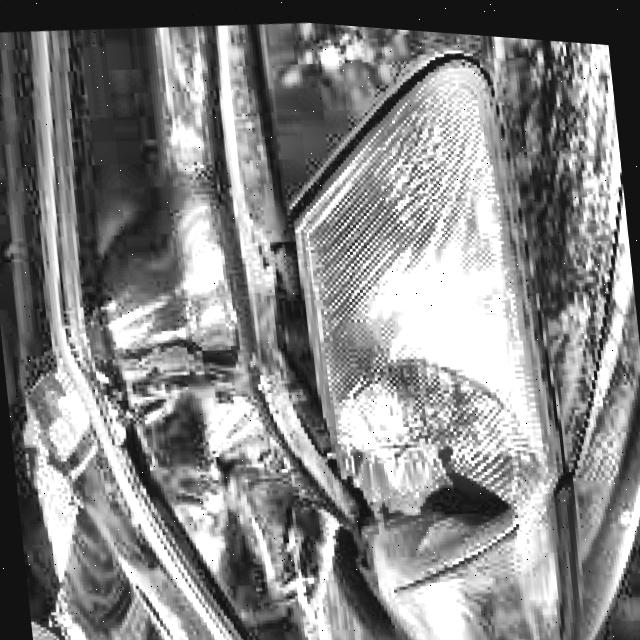bumper_dent: (12, 325, 324, 640)
head_lamp: (340, 421, 558, 574)
